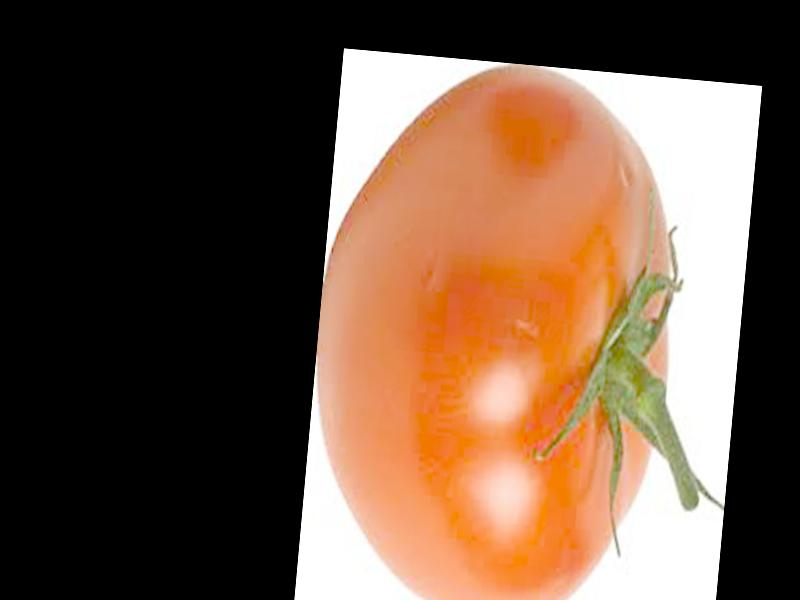Tomato: (299, 48, 696, 600)
